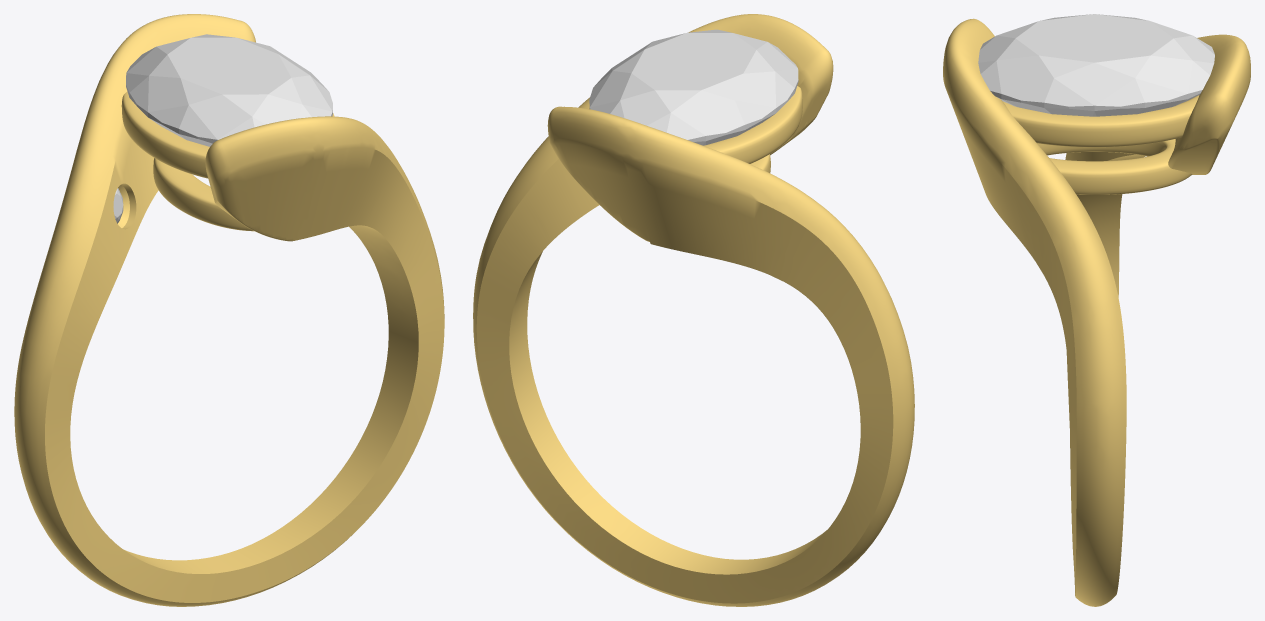
Rendered from JCygBypasseng_blender.glb.
3 views of the same model, side by side, from view 1: azimuth 30°, elevation 25°; view 2: azimuth 150°, elevation 25°; view 3: azimuth 270°, elevation 25° (orthographic). The views are drawn at different scales.
Parts seen in each view (by area): view 1: JC YG for 3d model, JC dia for 3d model.002; view 2: JC YG for 3d model, JC dia for 3d model.002; view 3: JC YG for 3d model, JC dia for 3d model.002.
Boxes of the visible parts, x1,y1,x2,y2 form: JC YG for 3d model: (14, 14, 444, 606); JC dia for 3d model.002: (126, 34, 332, 146); JC YG for 3d model: (473, 14, 914, 606); JC dia for 3d model.002: (589, 29, 798, 145); JC YG for 3d model: (943, 18, 1250, 606); JC dia for 3d model.002: (978, 14, 1214, 116).
Size of the model in its own units: 21.7 by 25.94 by 13.3.
